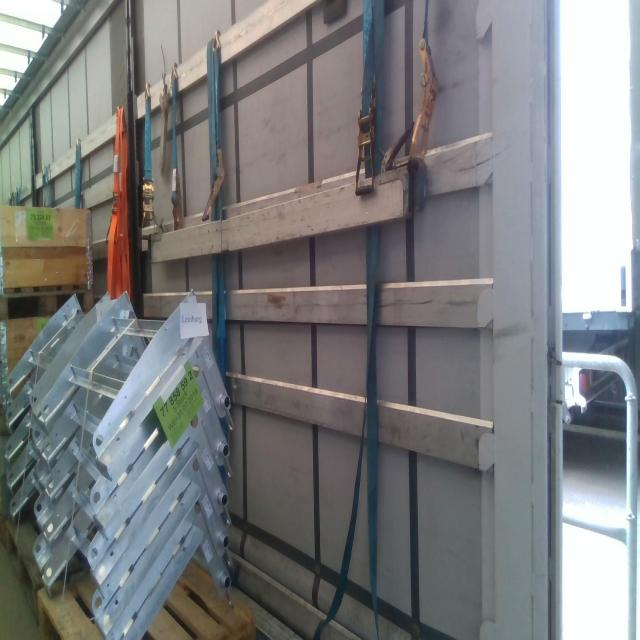pallet: (28, 516, 257, 639), (3, 512, 67, 624), (1, 284, 97, 325)
